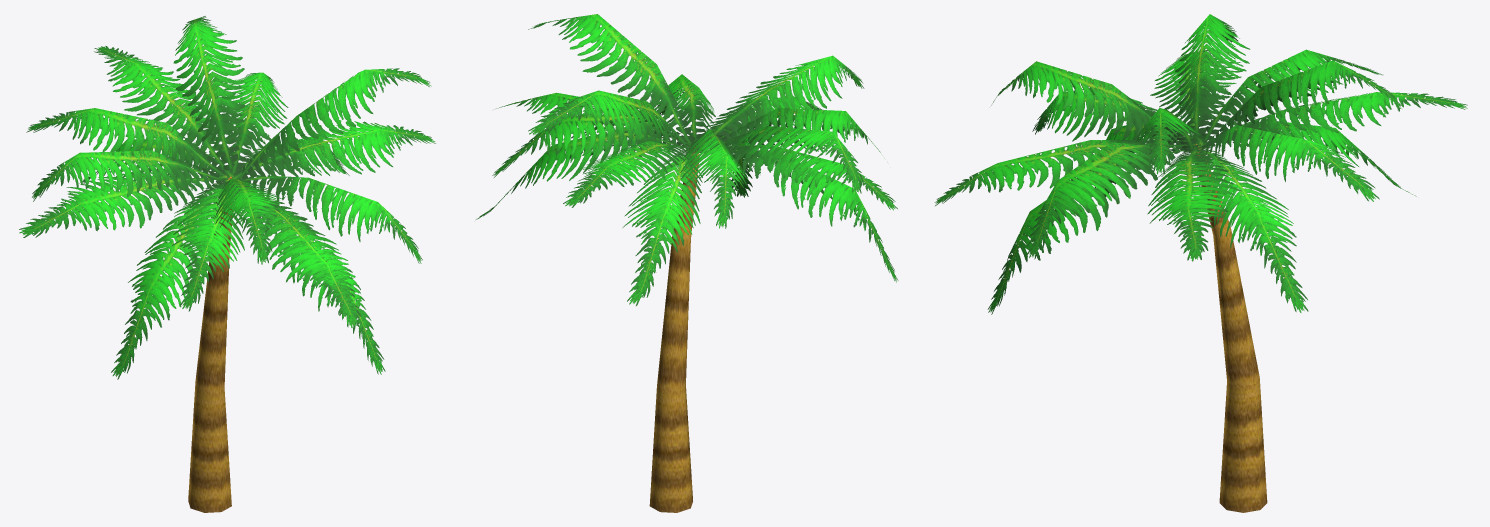
File: palmtree01.obj
3 views of the same model, side by side, from view 1: azimuth 30°, elevation 25°; view 2: azimuth 150°, elevation 25°; view 3: azimuth 270°, elevation 25° (orthographic). The views are drawn at different scales.
Visible parts, largest first — view 1: Duplicate01, Duplicate06, Duplicate05, Duplicate02, Cylinder01, Triangles, Duplicate04; view 2: Duplicate01, Duplicate02, Duplicate06, Cylinder01, Duplicate05, Triangles, Duplicate04; view 3: Duplicate01, Duplicate06, Duplicate02, Cylinder01, Duplicate05, Duplicate04, Triangles.
Boxes of the visible parts, x1=… form: Duplicate01: x1=32, y1=16, x2=431, y2=264; Duplicate06: x1=26, y1=72, x2=422, y2=311; Duplicate05: x1=94, y1=46, x2=361, y2=327; Duplicate02: x1=79, y1=136, x2=385, y2=379; Cylinder01: x1=188, y1=176, x2=233, y2=512; Triangles: x1=19, y1=169, x2=227, y2=237; Duplicate04: x1=230, y1=121, x2=435, y2=179; Duplicate01: x1=528, y1=14, x2=864, y2=193; Duplicate02: x1=476, y1=127, x2=898, y2=305; Duplicate06: x1=492, y1=74, x2=880, y2=228; Cylinder01: x1=649, y1=147, x2=699, y2=512; Duplicate05: x1=563, y1=96, x2=822, y2=207; Triangles: x1=696, y1=145, x2=897, y2=210; Duplicate04: x1=496, y1=92, x2=692, y2=146; Duplicate01: x1=991, y1=14, x2=1403, y2=174; Duplicate06: x1=1027, y1=49, x2=1382, y2=259; Duplicate02: x1=987, y1=120, x2=1416, y2=314; Cylinder01: x1=1196, y1=144, x2=1267, y2=512; Duplicate05: x1=934, y1=92, x2=1467, y2=205; Duplicate04: x1=1147, y1=146, x2=1240, y2=261; Triangles: x1=1150, y1=50, x2=1242, y2=145.
Bounding box in the file's own units: 79.04 × 79.32 × 85.79.
